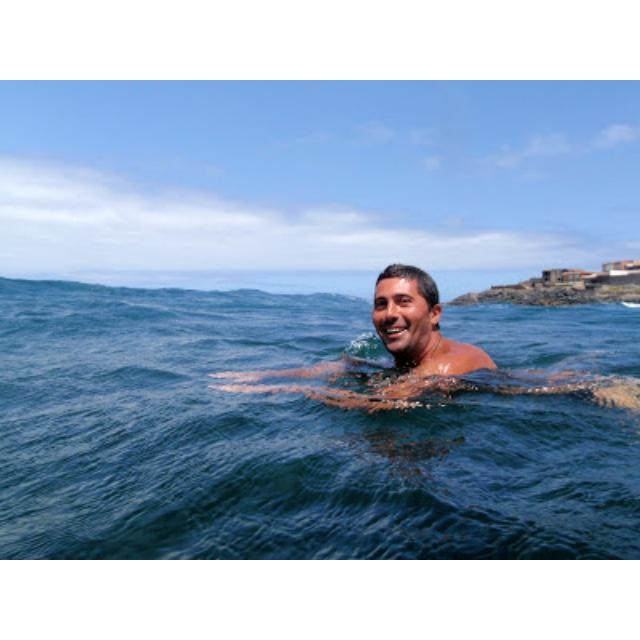human: (210, 261, 496, 411)
